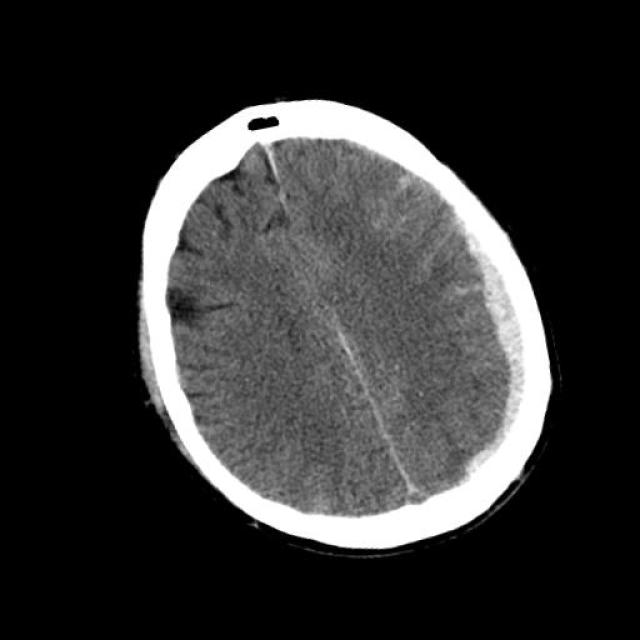Subdural: (403, 193, 578, 492)
